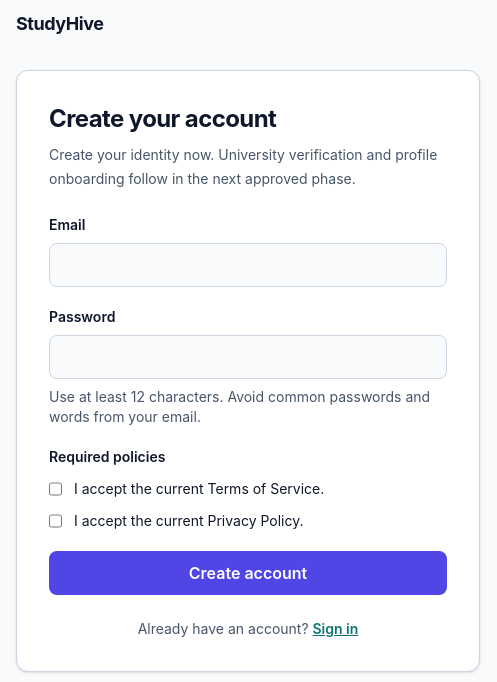
Scenario: registration page › requires both versioned policy acknowledgements
Type "student@example.edu" into the field labelled "Email" at (248, 265), box [49,243,447,287]
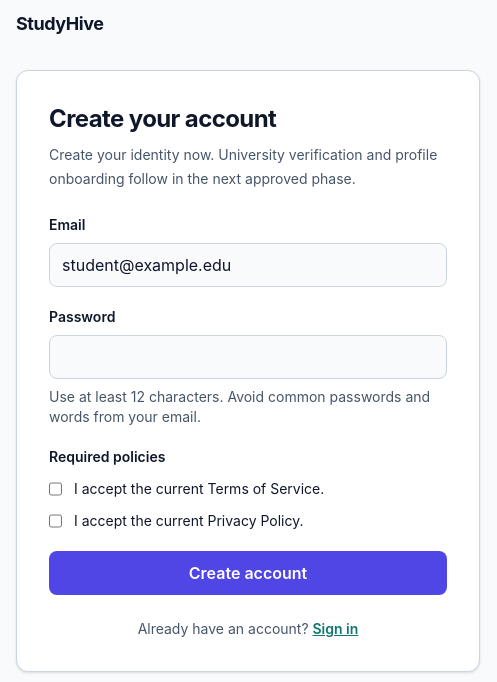
Type "a sufficiently long password" into the password field labelled "Password" at (248, 357), box [49,335,447,379]
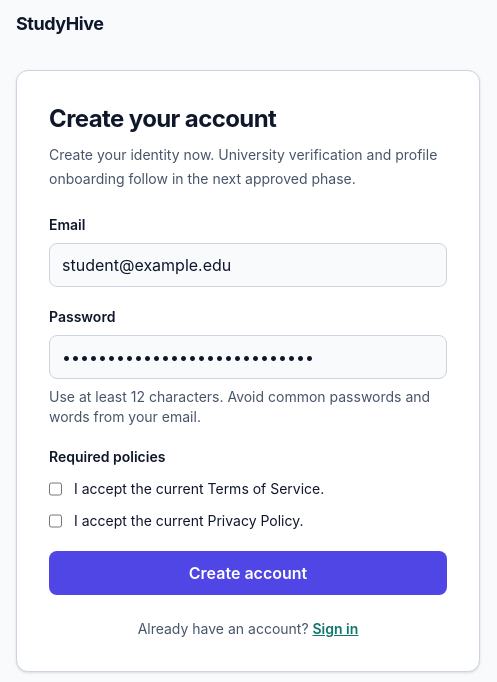
Click the button "Create account" at (248, 573), box [49,551,447,595]
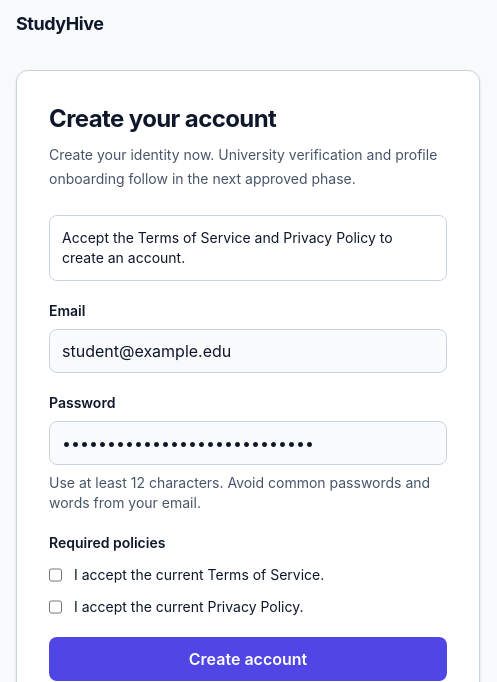
Expected: the message shows "Accept the Terms of Service and Privacy Policy", [62,229,392,266]
